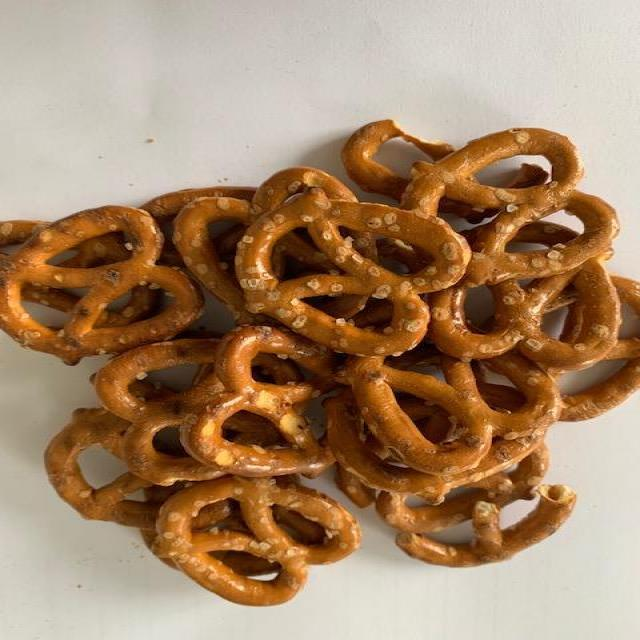Salatini: (13, 119, 639, 618)
